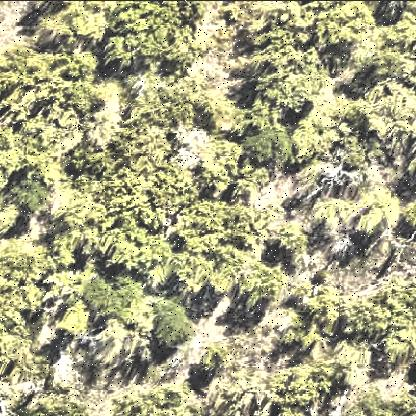tree-top: (66, 133, 194, 271), (1, 45, 79, 169), (126, 75, 254, 145), (1, 238, 62, 371), (180, 193, 260, 289), (303, 157, 400, 234), (104, 2, 202, 68), (295, 85, 377, 159), (251, 28, 323, 111), (353, 274, 415, 368), (264, 359, 342, 416), (34, 1, 114, 51), (359, 12, 416, 82), (213, 1, 310, 41), (360, 81, 416, 145), (85, 273, 145, 326), (149, 298, 202, 353), (305, 279, 349, 343), (319, 2, 376, 50), (115, 381, 191, 416), (196, 136, 242, 189), (239, 129, 295, 169), (241, 260, 283, 308), (355, 383, 416, 416), (273, 216, 316, 259), (13, 392, 82, 416), (14, 175, 50, 215), (71, 78, 105, 114), (199, 345, 231, 373)
